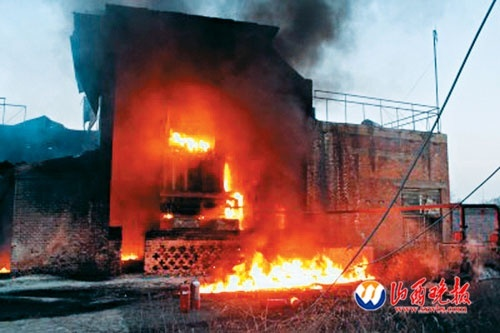fire: (166, 133, 247, 223), (206, 253, 374, 290), (168, 130, 215, 153)
